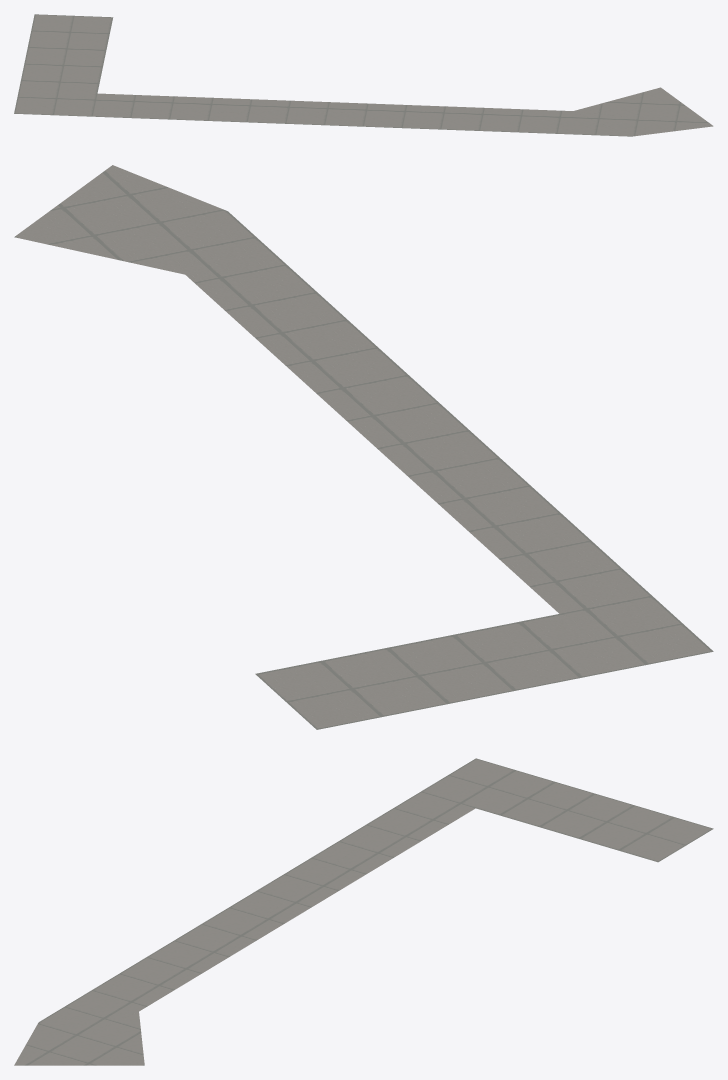
The model's file is kd_stage_135ebf_2_49.glb.
3 views of the same model, one above another, from view 1: azimuth 30°, elevation 25°; view 2: azimuth 150°, elevation 25°; view 3: azimuth 270°, elevation 25° (orthographic). The views are drawn at different scales.
Visible parts, largest first — view 1: kd_stage_135ebf_2_49; view 2: kd_stage_135ebf_2_49; view 3: kd_stage_135ebf_2_49.
Part boxes in pixels (left/top/right/bottom): kd_stage_135ebf_2_49: left=14, top=14, right=713, bottom=136; kd_stage_135ebf_2_49: left=14, top=165, right=713, bottom=729; kd_stage_135ebf_2_49: left=14, top=758, right=713, bottom=1065.
Bounding box in the file's own units: 22.83 × 1.55e-06 × 21.98.
1 material, 1 textured.
